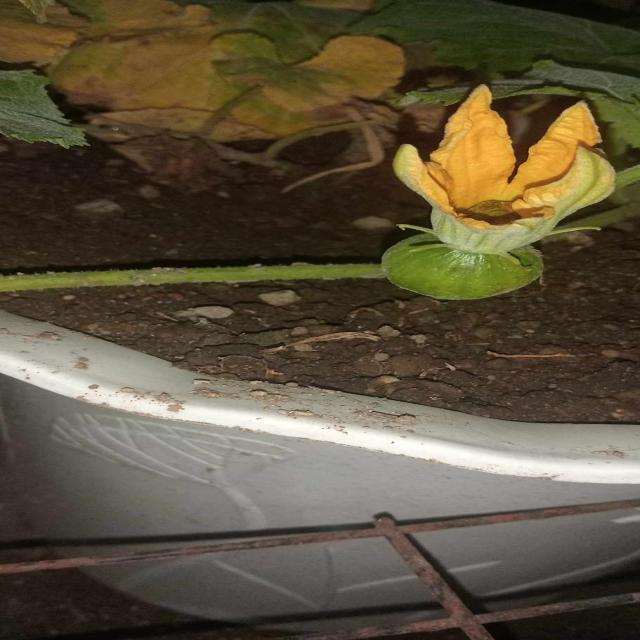flower: (385, 79, 623, 251)
squash: (380, 233, 547, 301)
